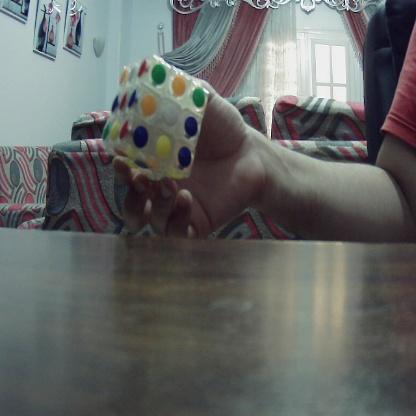Rubix Cube: (104, 66, 206, 175)
